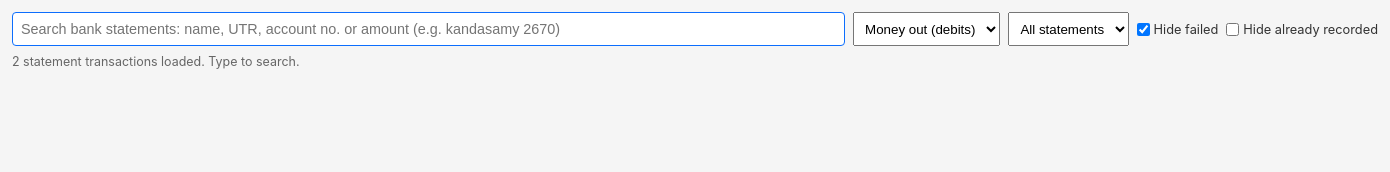
it: typing a truncated-name search shows the PayUnie gross payout amount
Expected: the text "2 statement transactions loaded. Type to search." is shown, x1=12 y1=54 x2=300 y2=69
Replace the text in the search field with placeholder "Search bank statements" with "rajeshwari" at [428, 29], box x1=12 y1=12 x2=845 y2=46
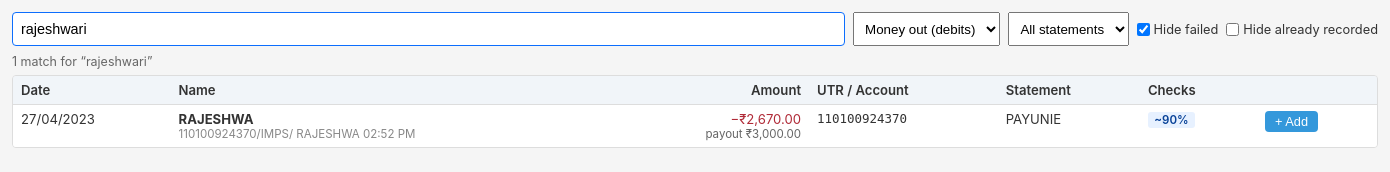
Now the text "RAJESHWA" is shown, box x1=179 y1=111 x2=254 y2=127
Now the text "payout ₹3,000.00" is shown, box x1=705 y1=127 x2=801 y2=141
